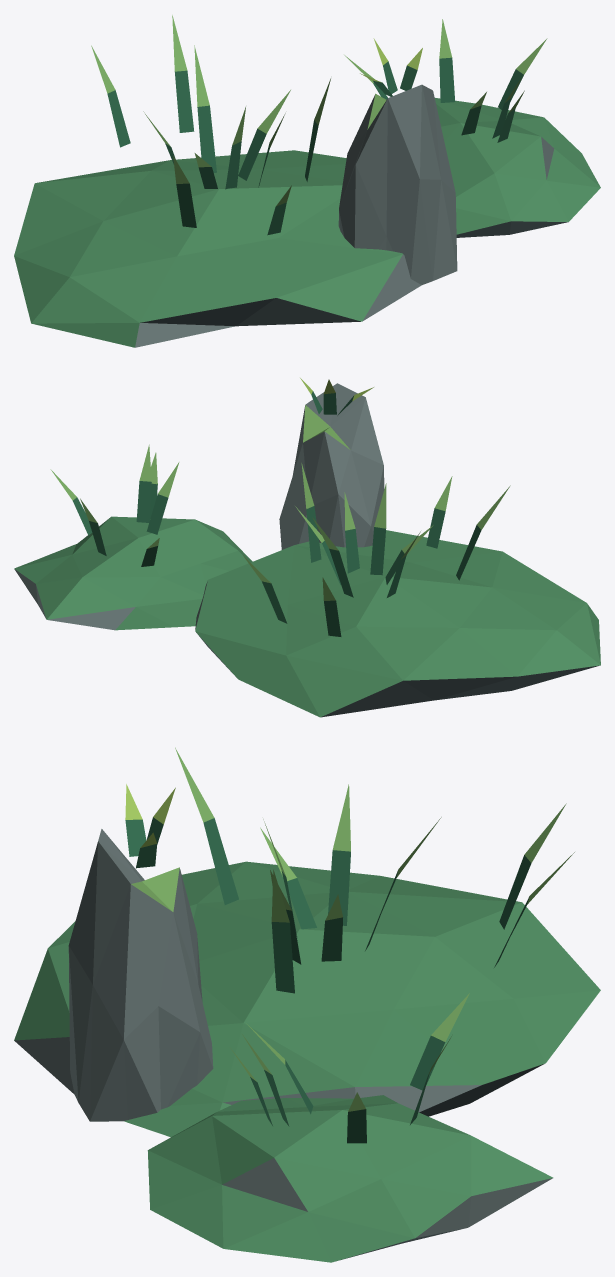
Rendered from sea_rock_b.glb.
The picture shows the model from 3 angles, top to bottom: view 1: azimuth 30°, elevation 25°; view 2: azimuth 150°, elevation 25°; view 3: azimuth 270°, elevation 25°; orthographic projection. The views are drawn at different scales.
Parts seen in each view (by area): view 1: Body; view 2: Body; view 3: Body.
Boxes of the visible parts, x1,y1,x2,y2 form: Body: (14, 15, 600, 347); Body: (14, 378, 600, 717); Body: (14, 747, 600, 1262).
Bounding box in the file's own units: 3.2 × 1.16 × 2.05.
